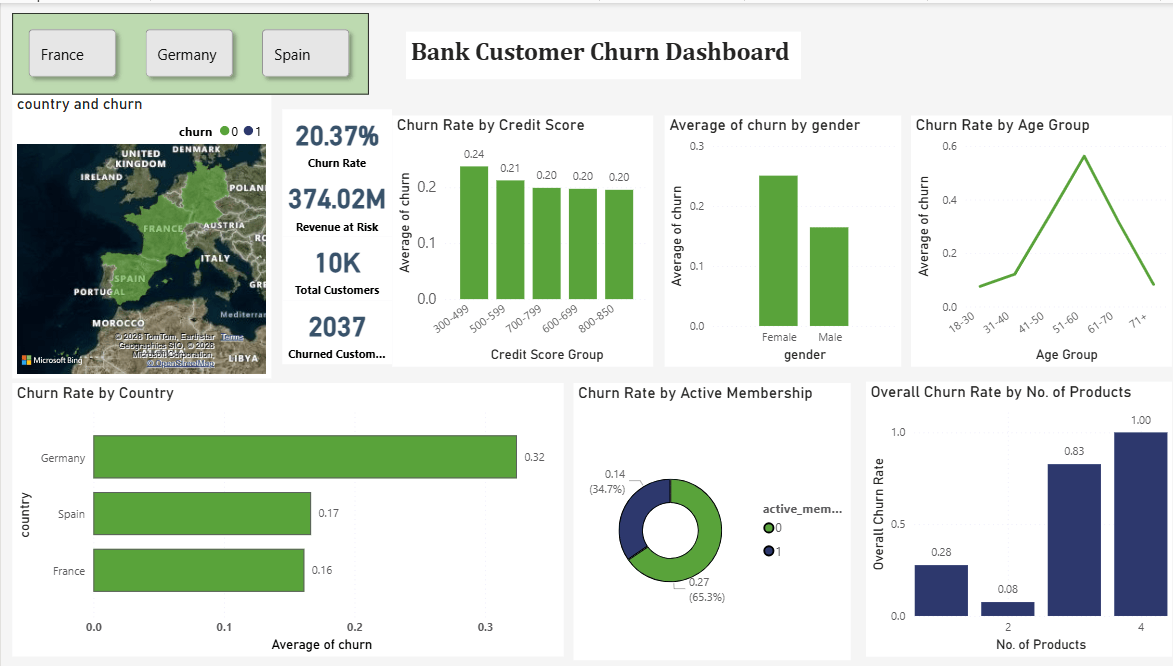

This screenshot's page, from the dashboard's own definition file:
{"tool":"powerbi","page":{"name":"Page 1","canvas":[1280,720],"ordinal":0},"visuals":[{"type":"clusteredBarChart","title":"Churn Rate by Country","fields":{"Category":["BC_Customers.country"],"Y":["Avg(BC_accounts.churn)"]},"box":[12.1,410.1,594.9,295.4],"z":0},{"type":"clusteredColumnChart","fields":{"Category":["BC_accounts.products_number"],"Y":["BC_accounts.Overall Churn Rate"]},"box":[933.6,408.8,330.5,296.8],"z":1000},{"type":"lineChart","title":"Churn Rate by Age Group","fields":{"Y":["Avg(BC_accounts.churn)"],"Category":["BC_Customers.Age Group"]},"box":[982.1,121.4,282,271.2],"z":2000},{"type":"donutChart","title":"Churn Rate by Active Membership","fields":{"Category":["BC_accounts.active_member"],"Y":["Avg(BC_accounts.churn)"]},"box":[617.9,410.1,299.5,299.5],"z":3000},{"type":"card","fields":{"Values":["BC_accounts.Revenue at Risk"]},"box":[303.5,183.5,118.7,68.8],"z":4000},{"type":"card","fields":{"Values":["BC_Customers.Total Customers"]},"box":[303.5,252.3,118.7,68.8],"z":5000},{"type":"card","fields":{"Values":["BC_accounts.Overall Churn Rate"]},"box":[303.5,114.7,118.7,68.8],"z":6000},{"type":"filledMap","fields":{"Category":["BC_Customers.country"],"Series":["BC_accounts.churn"]},"box":[12.1,98.5,279.3,306.2],"z":7000},{"type":"advancedSlicerVisual","fields":{"Values":["BC_Customers.country"]},"box":[12.1,10.8,384.5,87.7],"z":8000},{"type":"textbox","box":[437.1,31,426.3,51.3],"z":9000},{"type":"card","fields":{"Values":["BC_accounts.Churned Customers"]},"box":[303.5,321.1,118.7,68.8],"z":10000},{"type":"columnChart","fields":{"Category":["BC_Customers.gender"],"Y":["Avg(BC_accounts.churn)"]},"box":[716.4,121.4,255,271.2],"z":11000},{"type":"clusteredColumnChart","title":"Churn Rate by Credit Score","fields":{"Y":["Avg(BC_accounts.churn)"],"Category":["BC_Customers.Credit Score Group"]},"box":[422.3,121.4,282,271.2],"z":12000}]}

Visuals, with their boxes in screenshot pixels (x1, y1, x2, y2), scaled from the page's 1280x720 canvas onto the 1173x666 screenshot:
"Churn Rate by Country" clusteredBarChart: box(11, 379, 556, 653)
clusteredColumnChart - BC_accounts.products_number x BC_accounts.Overall Churn Rate: box(856, 378, 1158, 653)
"Churn Rate by Age Group" lineChart: box(900, 112, 1158, 363)
"Churn Rate by Active Membership" donutChart: box(566, 379, 841, 656)
card - BC_accounts.Revenue at Risk: box(278, 170, 387, 233)
card - BC_Customers.Total Customers: box(278, 233, 387, 297)
card - BC_accounts.Overall Churn Rate: box(278, 106, 387, 170)
filledMap - BC_Customers.country x BC_accounts.churn: box(11, 91, 267, 374)
advancedSlicerVisual - BC_Customers.country: box(11, 10, 363, 91)
textbox: box(401, 29, 791, 76)
card - BC_accounts.Churned Customers: box(278, 297, 387, 361)
columnChart - BC_Customers.gender x Avg(BC_accounts.churn): box(657, 112, 890, 363)
"Churn Rate by Credit Score" clusteredColumnChart: box(387, 112, 645, 363)
